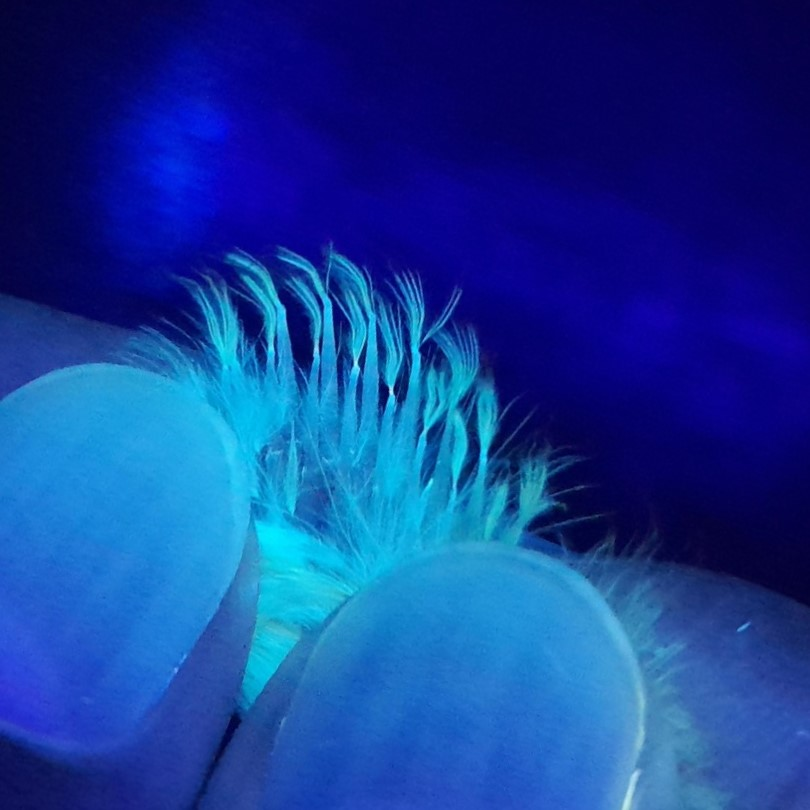female: (222, 288, 523, 550)
